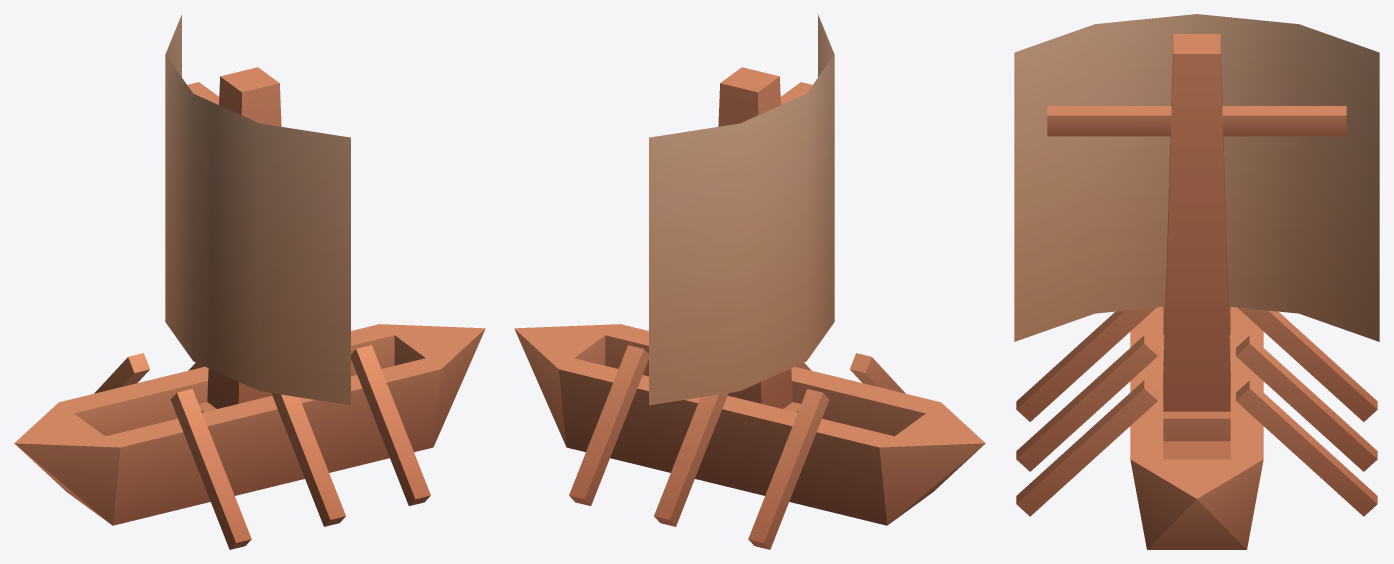
Rendered from kenney-hexagon-unit-ship-large.glb.
3 views of the same model, side by side, from view 1: azimuth 30°, elevation 25°; view 2: azimuth 150°, elevation 25°; view 3: azimuth 270°, elevation 25° (orthographic). The views are drawn at different scales.
Parts seen in each view (by area): view 1: unit_ship_large; view 2: unit_ship_large; view 3: unit_ship_large.
Part boxes in pixels (bbox=[...]): unit_ship_large: bbox=[14, 14, 485, 549]; unit_ship_large: bbox=[514, 14, 985, 549]; unit_ship_large: bbox=[1014, 14, 1379, 549].
Bounding box in the file's own units: 0.645 × 0.5096 × 0.4.
1 material, 1 textured.
